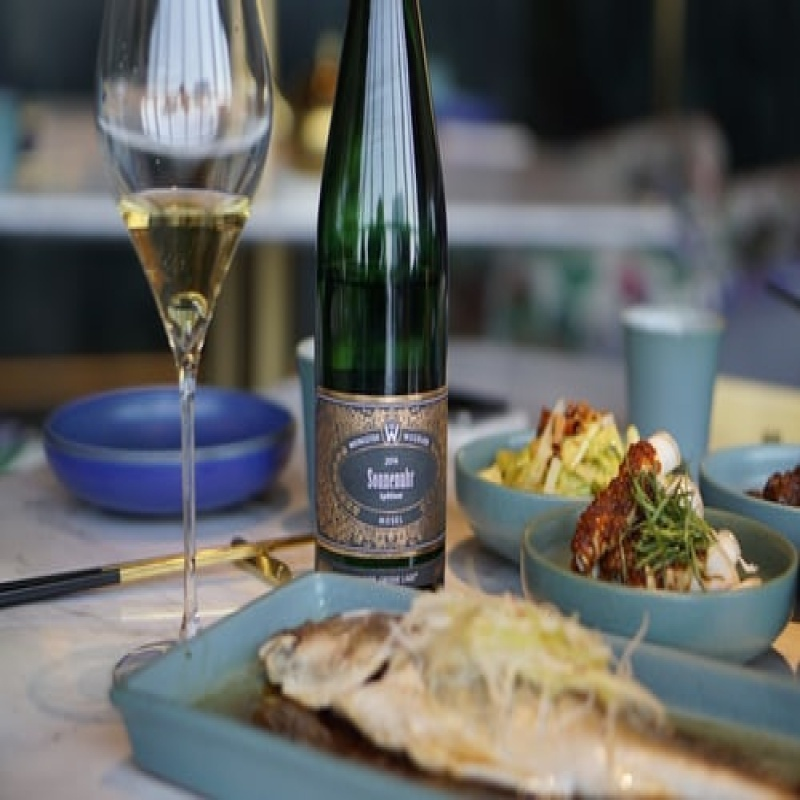wine: (330, 1, 456, 588)
